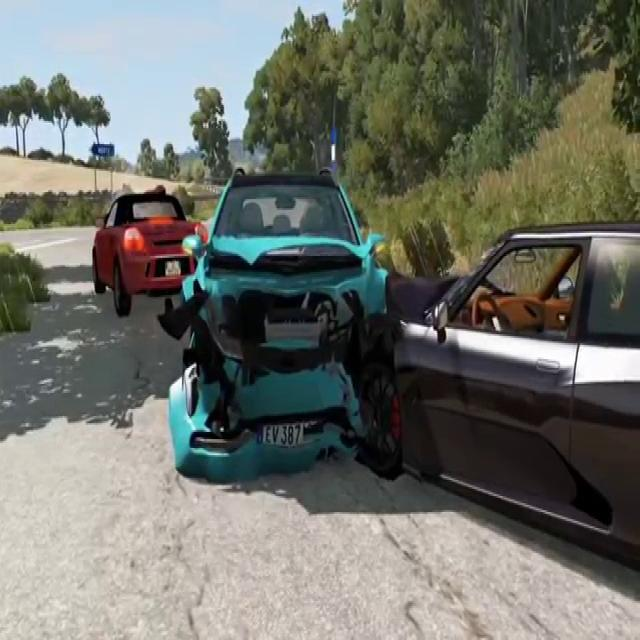moderate: (156, 163, 640, 613)
